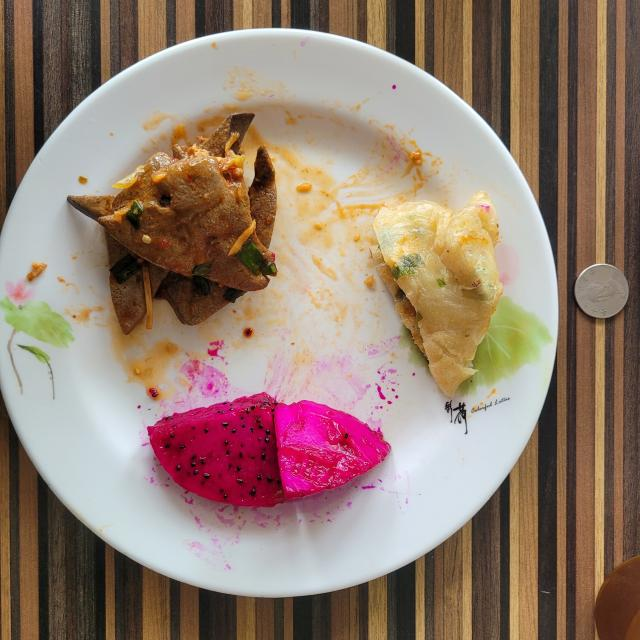coin: (573, 259, 633, 322), (205, 0, 234, 35)
pig liver: (68, 112, 276, 334)
